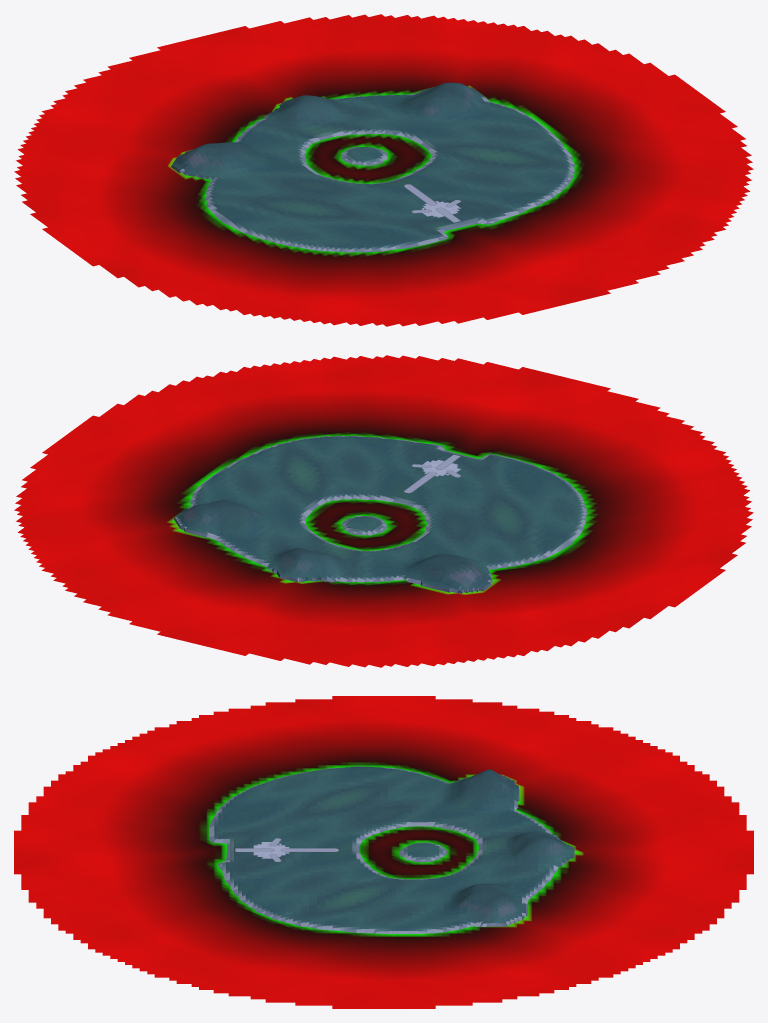
The model's file is zone_moon.glb.
The picture shows the model from 3 angles, top to bottom: view 1: azimuth 30°, elevation 25°; view 2: azimuth 150°, elevation 25°; view 3: azimuth 270°, elevation 25°; orthographic projection.
Visible parts, largest first — view 1: water, terrain_1_1__lod, terrain_1_1, terrain_0_1, terrain_2_1, terrain_0_1__lod, terrain_1_0__lod, terrain_2_1__lod, terrain_1_2, terrain_1_2__lod, terrain_1_0, terrain_0_2 (+4 smaller); view 2: water, terrain_1_1__lod, terrain_1_1, terrain_0_1, terrain_2_1, terrain_1_0__lod, terrain_1_0, terrain_0_1__lod, terrain_1_2__lod, terrain_2_1__lod, terrain_1_2, terrain_0_0 (+7 smaller); view 3: water, terrain_1_1__lod, terrain_1_1, terrain_2_1, terrain_0_1, terrain_2_1__lod, terrain_1_0__lod, terrain_0_1__lod, terrain_1_2__lod, terrain_1_2, terrain_1_0, terrain_2_0 (+4 smaller).
Boxes of the visible parts, x1,y1,x2,y2 form: water: [14, 14, 753, 326]; terrain_1_1__lod: [251, 106, 513, 224]; terrain_1_1: [253, 104, 516, 219]; terrain_0_1: [179, 145, 347, 242]; terrain_2_1: [420, 90, 574, 183]; terrain_0_1__lod: [182, 146, 340, 243]; terrain_1_0__lod: [234, 95, 416, 150]; terrain_2_1__lod: [428, 92, 575, 181]; terrain_1_2: [349, 183, 540, 249]; terrain_1_2__lod: [348, 185, 541, 251]; terrain_1_0: [236, 95, 419, 149]; terrain_0_2: [281, 224, 378, 252]; water: [14, 355, 753, 667]; terrain_1_1__lod: [253, 455, 516, 563]; terrain_1_1: [251, 453, 504, 561]; terrain_0_1: [427, 494, 586, 582]; terrain_2_1: [190, 441, 347, 516]; terrain_1_0__lod: [224, 520, 418, 582]; terrain_1_0: [227, 517, 418, 582]; terrain_0_1__lod: [424, 496, 586, 582]; terrain_1_2__lod: [351, 437, 549, 493]; terrain_2_1__lod: [187, 441, 343, 514]; terrain_1_2: [349, 437, 547, 493]; terrain_0_0: [404, 557, 491, 593]; water: [14, 696, 753, 1008]; terrain_1_1__lod: [285, 804, 482, 891]; terrain_1_1: [285, 805, 482, 891]; terrain_2_1: [285, 884, 482, 933]; terrain_0_1: [285, 766, 482, 808]; terrain_2_1__lod: [285, 889, 482, 933]; terrain_1_0__lod: [482, 804, 571, 893]; terrain_0_1__lod: [285, 766, 482, 808]; terrain_1_2__lod: [209, 808, 285, 893]; terrain_1_2: [212, 808, 285, 893]; terrain_1_0: [482, 804, 574, 891]; terrain_2_0: [482, 884, 531, 926].
Size of the model in its own units: 300 by 12.05 by 300.
